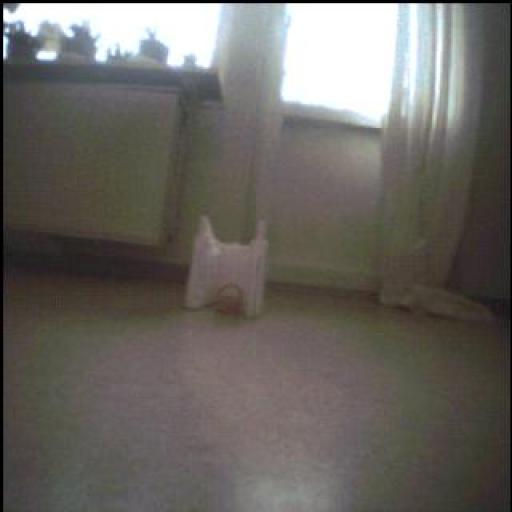Basket: (216, 284, 245, 316)
